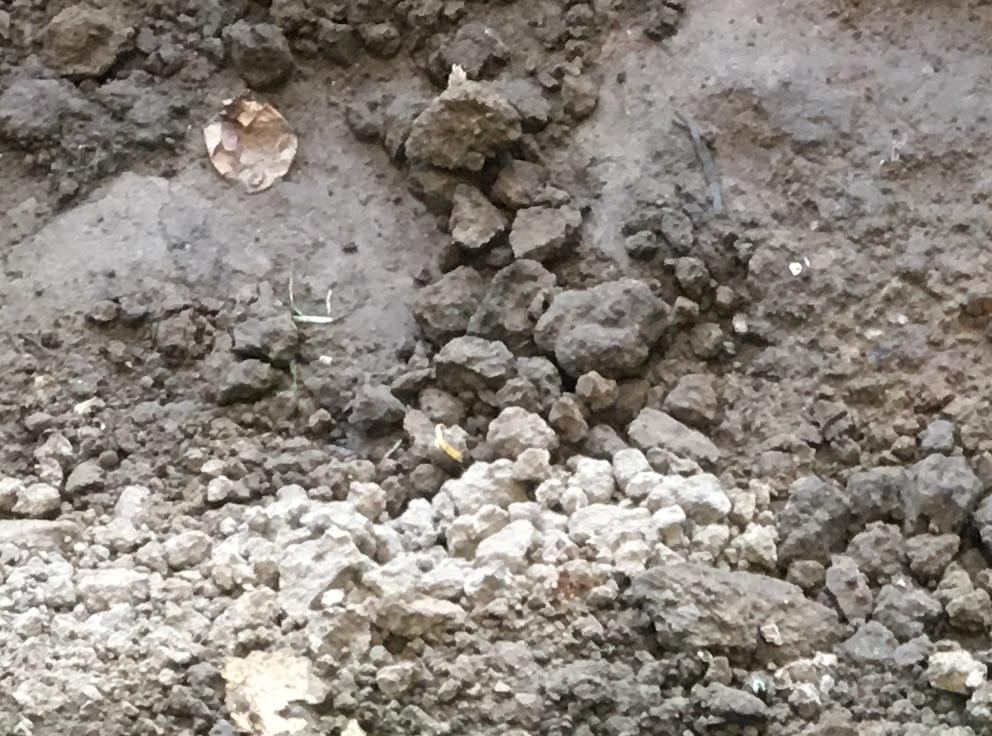block: (533, 280, 663, 374), (405, 74, 521, 174)
